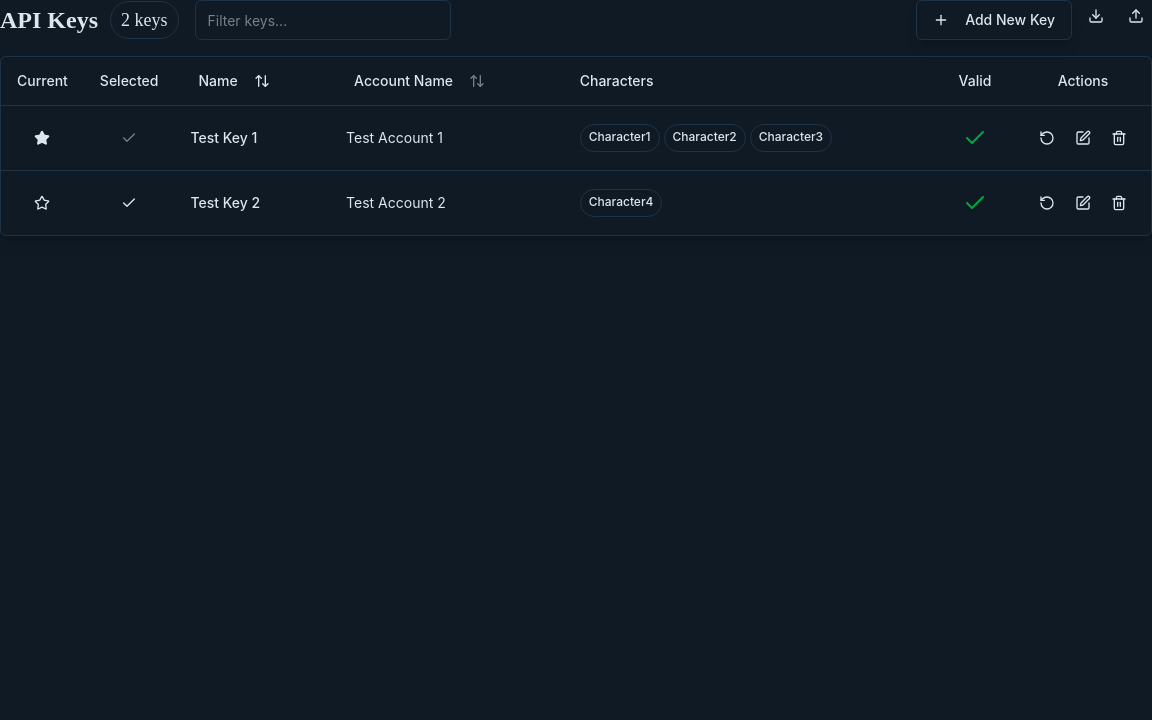
APIKeyList › Basic Rendering › opens Import dialog when button is clicked (with keys)
Click the button named "import api keys".
click(1136, 16)  # box x1=1120 y1=0 x2=1151 y2=32
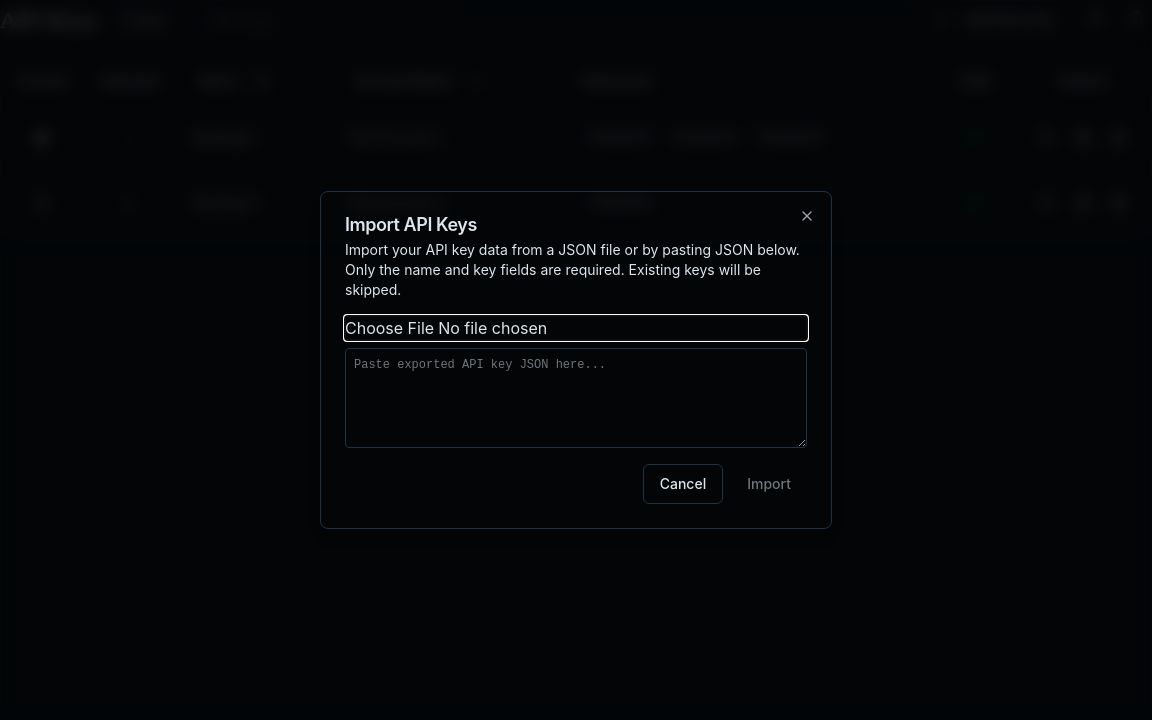
Now the dialog is shown, box x1=320 y1=191 x2=832 y2=529
Now the text box with placeholder "Paste exported API key JSON here..." is shown, box x1=345 y1=348 x2=807 y2=448
